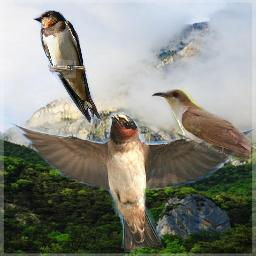Cuckoo: (149, 89, 251, 164)
Swallow: (5, 112, 256, 252), (33, 10, 101, 123)
